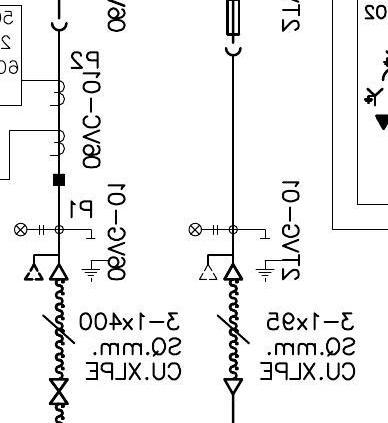22_gs: (81, 237, 109, 283), (256, 237, 283, 283)
22_ll: (13, 222, 45, 237), (188, 222, 219, 237)
terminator_single: (221, 377, 244, 396)
terminator_splicing_kits: (48, 378, 70, 406)
terminator_w_future: (197, 252, 244, 281), (23, 253, 70, 282)
